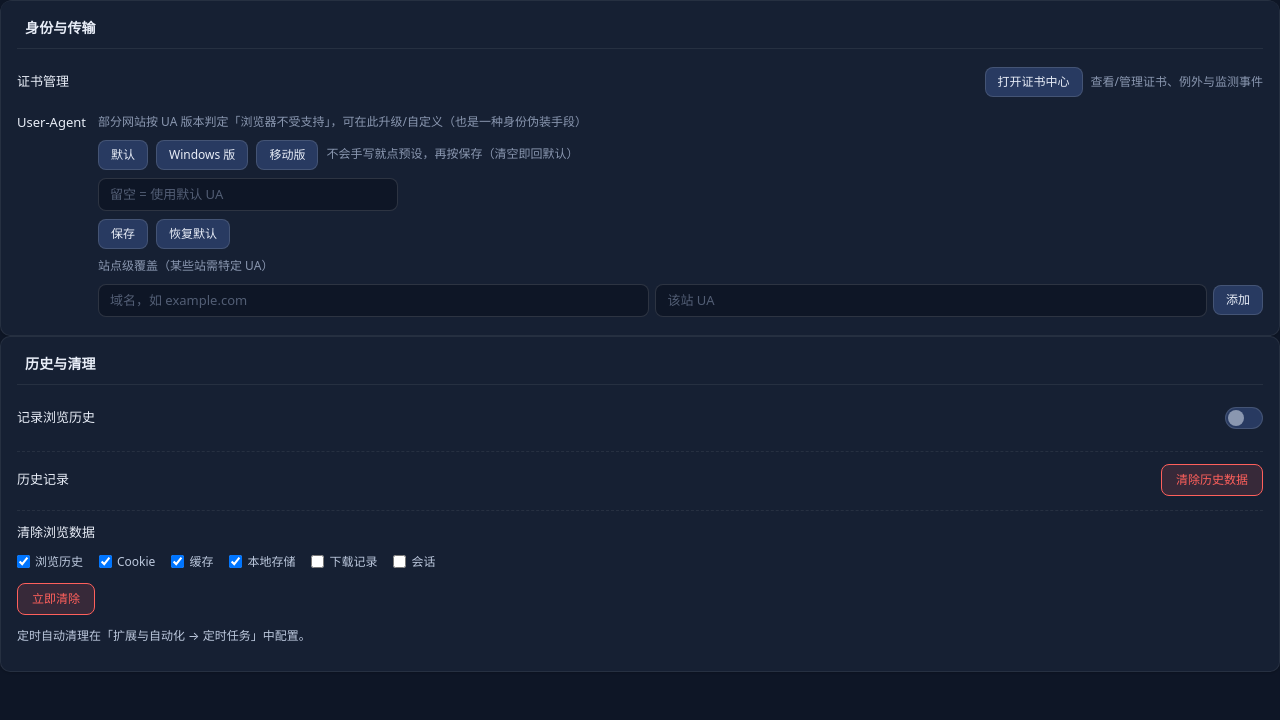
Test: PrivacyDataCard · 历史与清理 › 清除浏览数据：默认四项勾选 → clear_browsing_data 全参 + 中文回执 + toast
Click the button with class "danger-btn" showing "立即清除": (56, 599) [17,583,95,615]
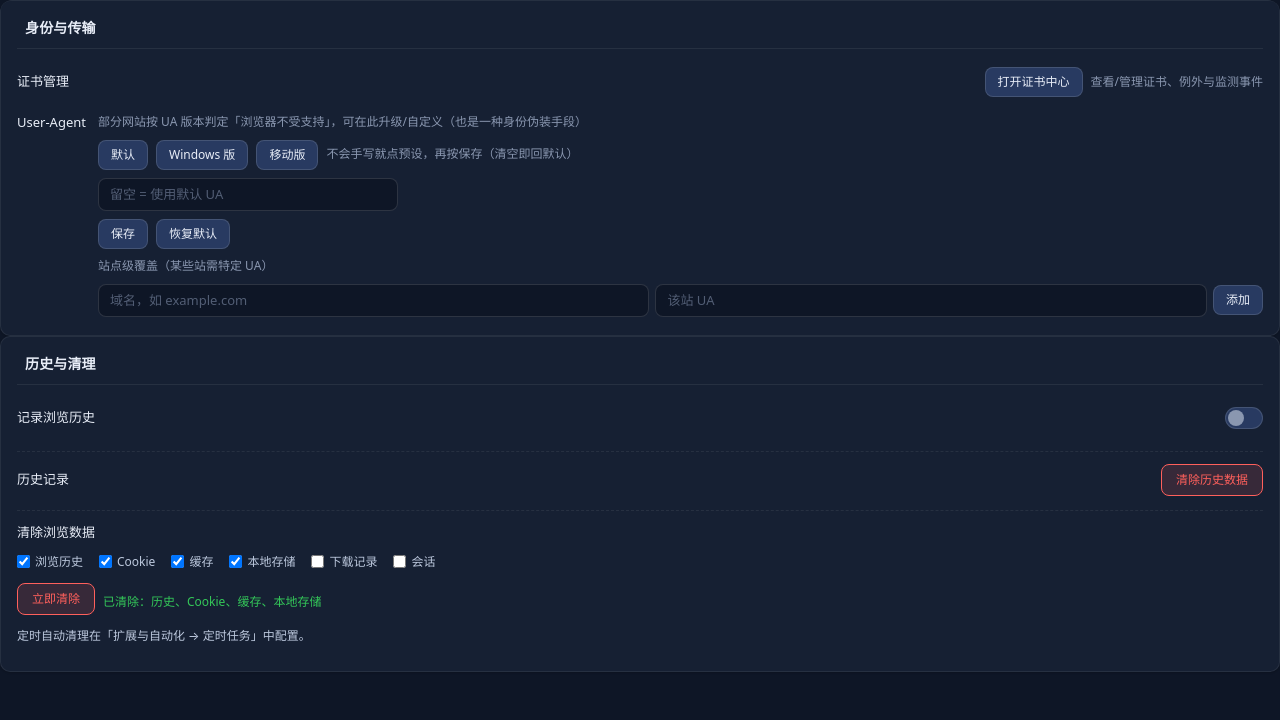
Now the text "已清除：历史、Cookie、缓存、本地存储" is shown, box [103,593,321,611]
